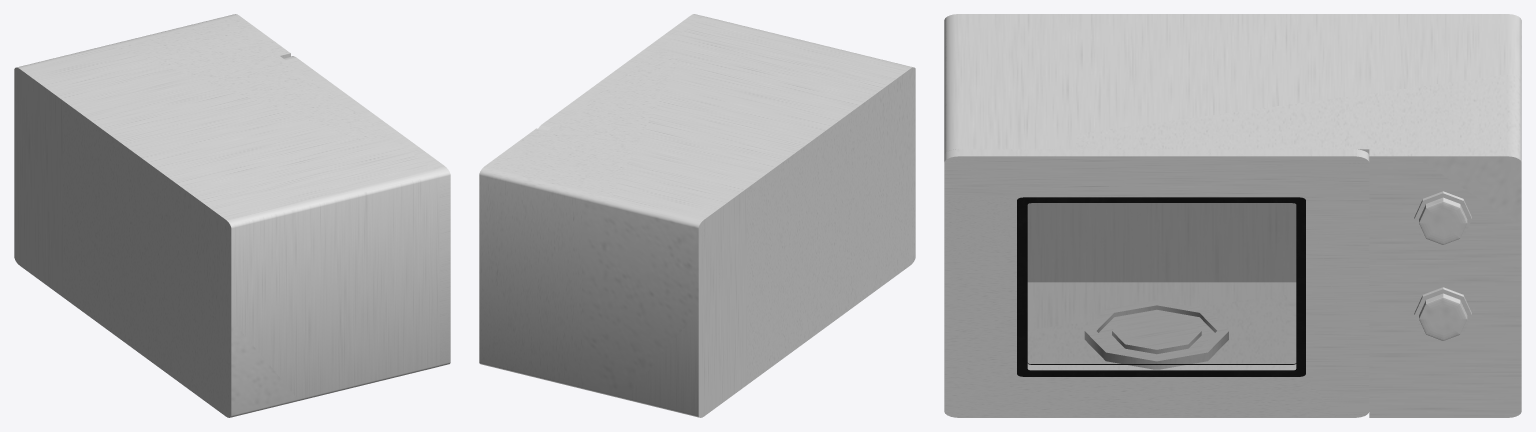
File: microwave.fbx
3 renders of one model, left to right at view 1: azimuth 30°, elevation 25°; view 2: azimuth 150°, elevation 25°; view 3: azimuth 270°, elevation 25°, orthographic. The views are drawn at different scales.
Visible parts, largest first — view 1: microwave, door; view 2: microwave, door; view 3: microwave, door.
Part boxes in pixels (x1,y1,x2,y2): microwave: (14,14,439,417); door: (283,56,450,366); microwave: (479,16,915,417); door: (538,14,704,130); microwave: (944,14,1521,417); door: (944,149,1369,417).
Size of the model in its own units: 36.5 by 30 by 60.
